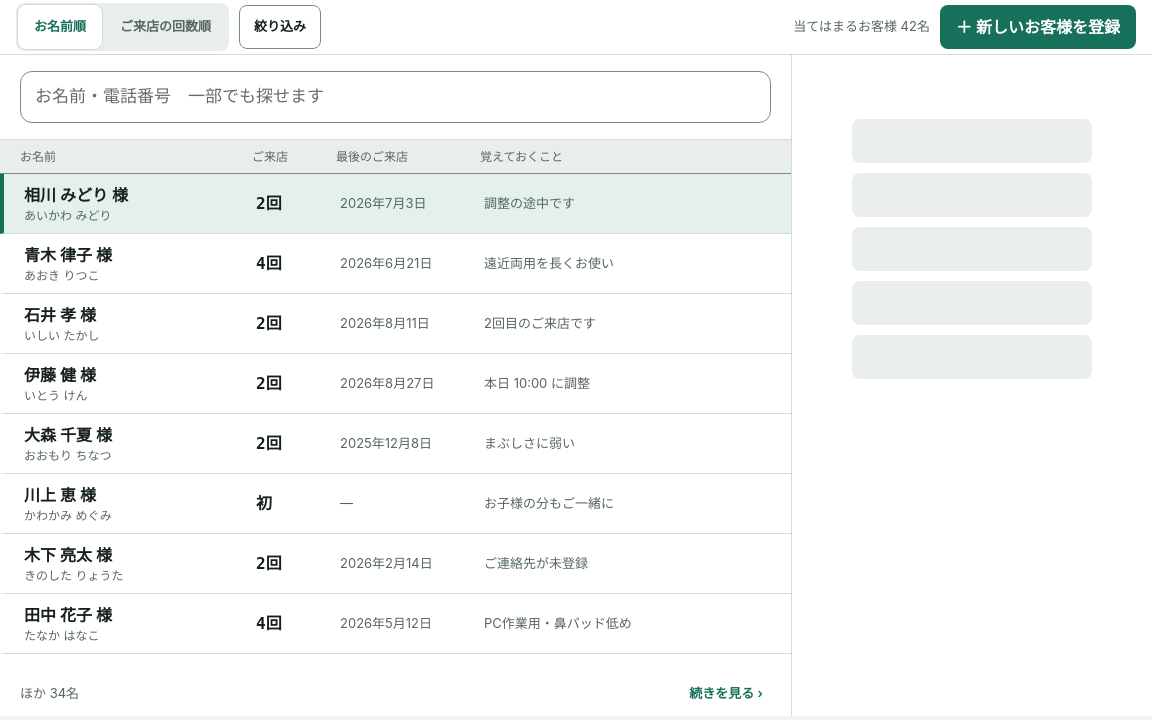
Scenario: 検索 › 当てはまるお客様が 0 名のとき、見出し 1 行・理由 1 行・「検索をやめて全件を見る」の 3 つだけを出す
Type "9999" into the search field named "お名前・電話番号　一部でも探せます" at (396, 97), box 20,71 -> 771,123
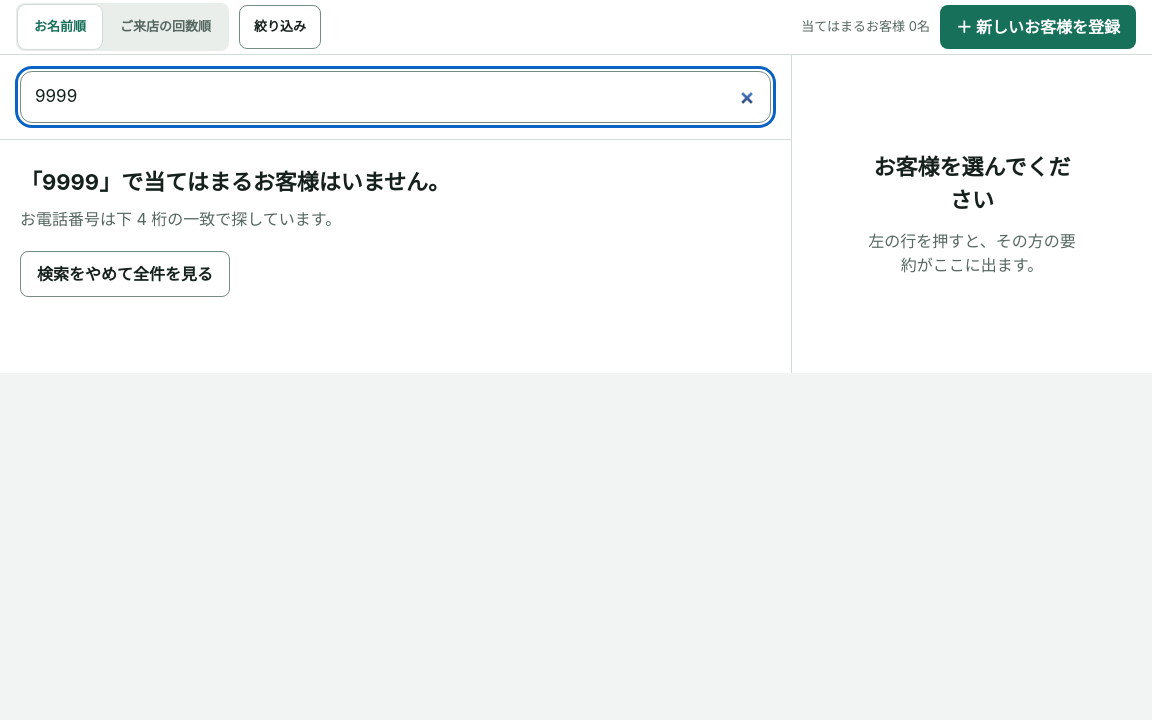
Expected: the heading "「9999」で当てはまるお客様はいません。" is shown, 20,169 -> 450,195
Expected: the text "お電話番号は下 4 桁の一致で探しています。" is shown, 20,209 -> 341,229
Expected: the list is gone
Click the button "検索をやめて全件を見る" at (125, 274), box 20,251 -> 230,297
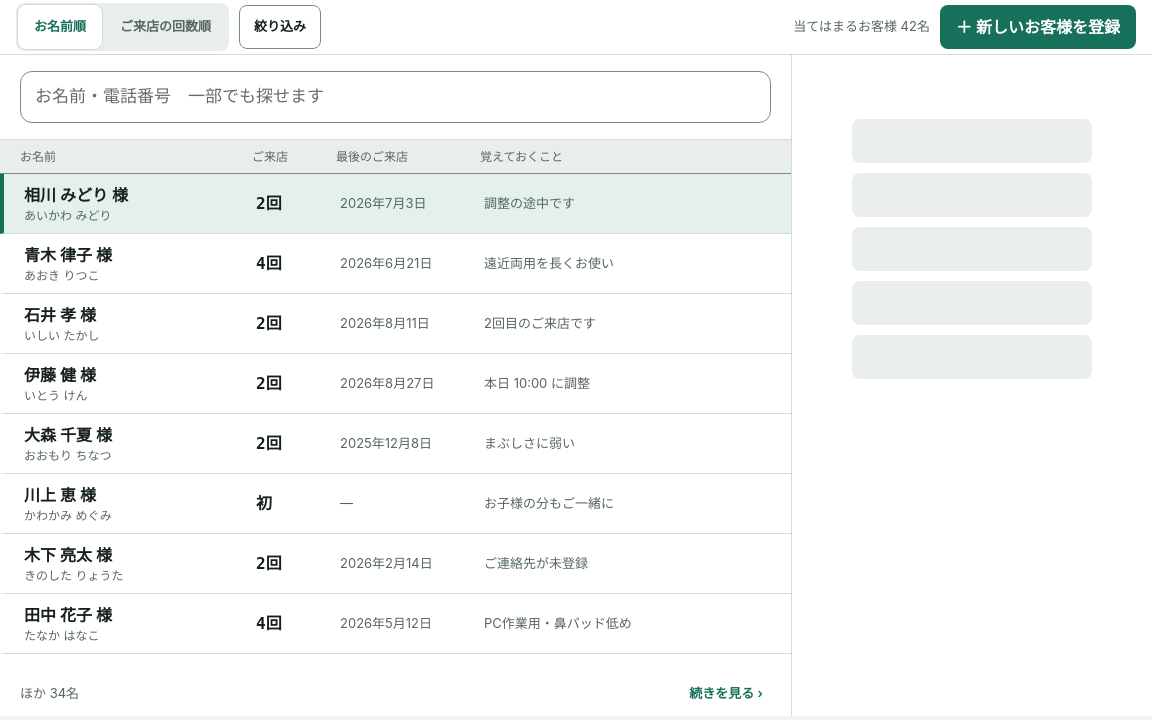
Expected: the number of options is 8
